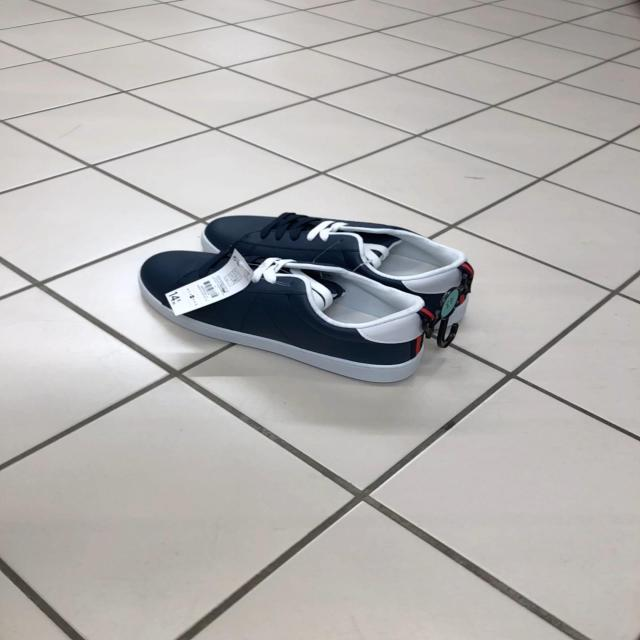shoe: (138, 250, 422, 383), (209, 213, 475, 347)
